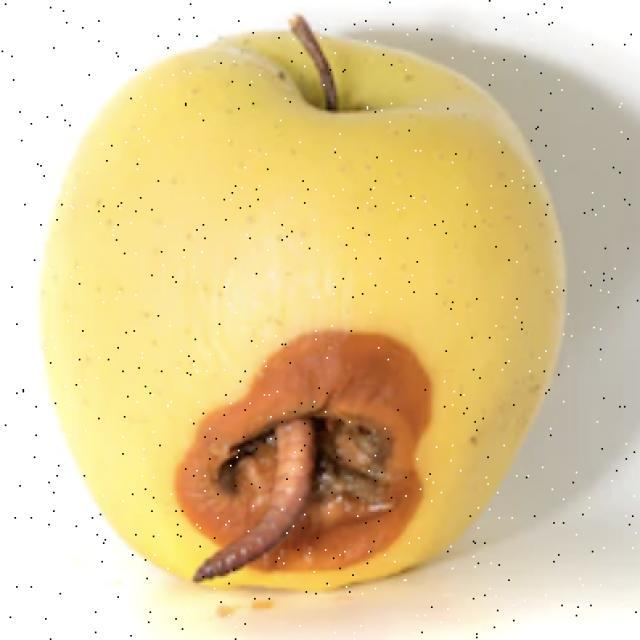Rotten: (63, 43, 552, 580)
